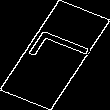L_SE: (17, 30, 93, 80)
